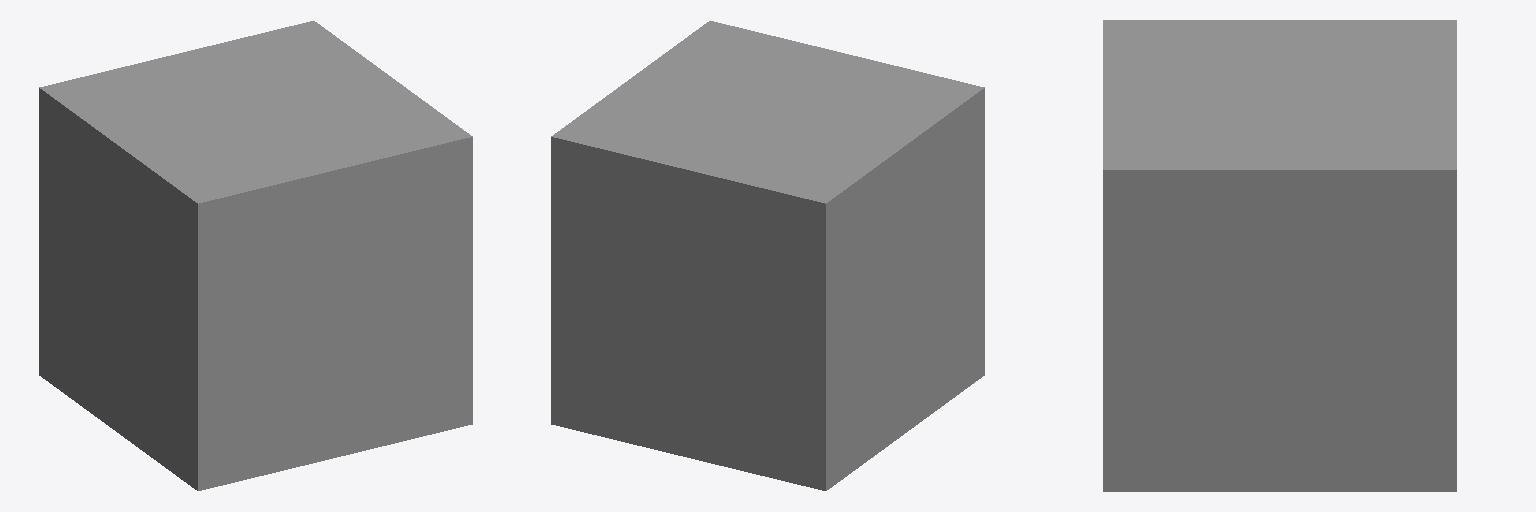
robot.urdf — box:
<?xml version="1.0" ?>
<robot name="box">
  <link name="box">
    <inertial>
      <density value="1000.0"/>
      <!-- <mass value=".25"/>
      <origin rpy="0 0 0" xyz="0 0 0"/>
      <inertia ixx="1e-4" ixy="0" ixz="0" iyy="1e-4" iyz="0" izz="1e-4"/> -->
    </inertial>
    <visual>
      <origin rpy="0 0 0" xyz="0 0 0"/>
      <geometry>
        <!-- <sphere radius=".0375"/> -->
          <mesh filename="meshes/box.obj"/>
      </geometry>
      <material name="Grey">
        <color rgba="0.65 0.65 0.65 1"/>
      </material>
    </visual>
    <collision>
      <origin rpy="0 0 0" xyz="0 0 0"/>
      <geometry>
        <!-- <sphere radius=".0375"/> -->
        <mesh filename="meshes/box.obj"/>
      </geometry>
    </collision>
  </link>
</robot>

--- Facts derived from the render (not from the file) ---
Views: 3 orthographic renders of the robot side by side, from view 1: azimuth 30°, elevation 25°; view 2: azimuth 150°, elevation 25°; view 3: azimuth 270°, elevation 25°.
Model box with 1 links and 0 joints (none), rooted at box, posed every joint at zero.
Links seen in each view (by area): view 1: box; view 2: box; view 3: box.
Link boxes in pixels (x1=…): box: x1=39, y1=21, x2=472, y2=490; box: x1=551, y1=21, x2=984, y2=490; box: x1=1103, y1=20, x2=1456, y2=491.
Bounding box of the posed robot: 0.05 × 0.05 × 0.05 m (x, y, z).
Meshes: 1 distinct files referenced, 1 mesh visuals loaded (1 OBJ).